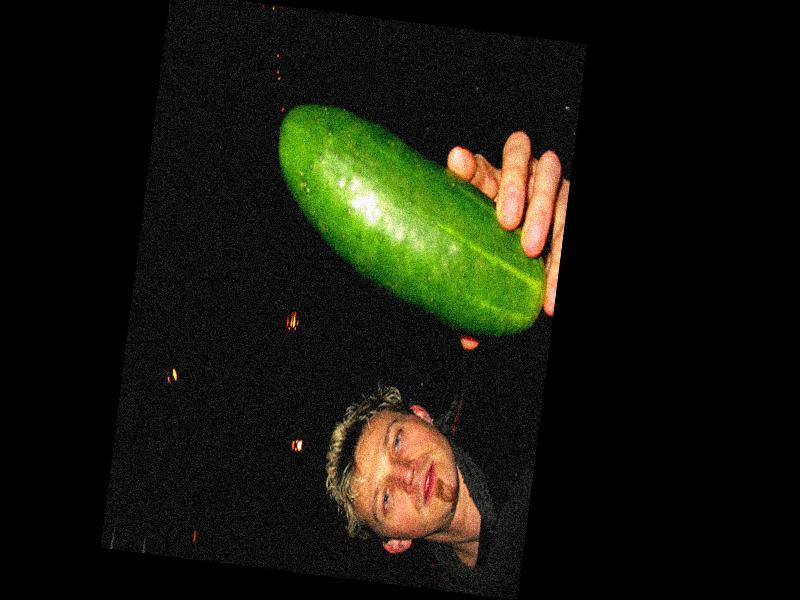Cucumber: (259, 99, 562, 338)
